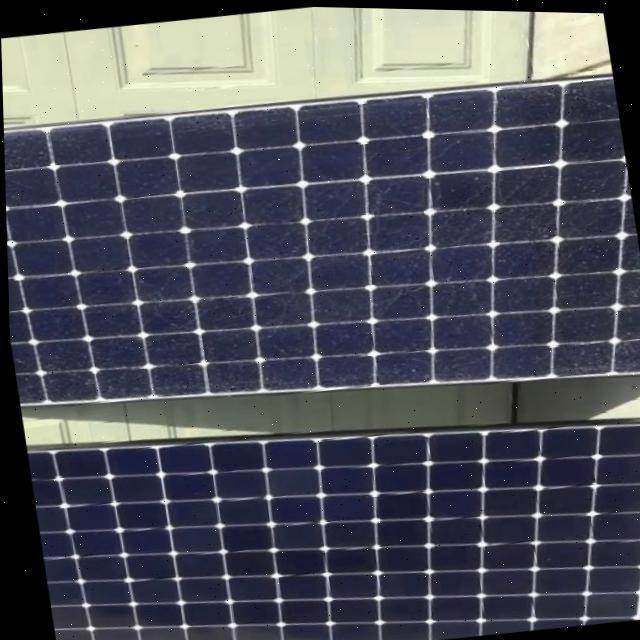Normal Solar Panel: (22, 373, 640, 640)
